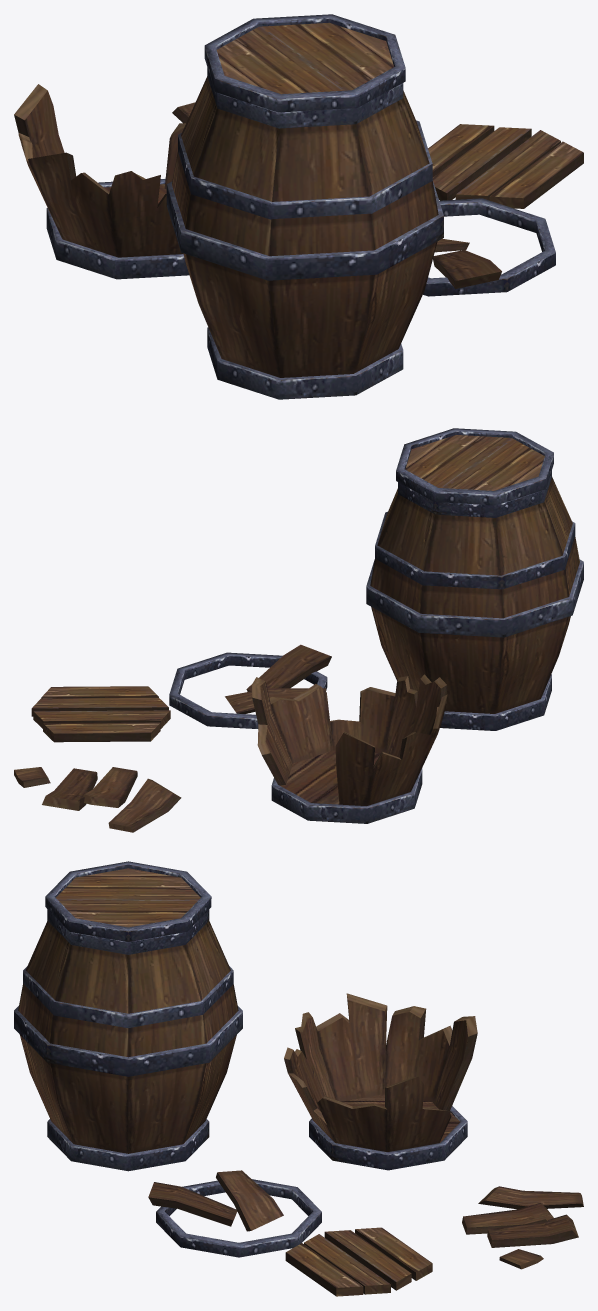
Rendered from q01c_thing_01.FBX.
3 views of the same model, one above another, from view 1: azimuth 30°, elevation 25°; view 2: azimuth 150°, elevation 25°; view 3: azimuth 270°, elevation 25° (orthographic). The views are drawn at different scales.
Visible parts, largest first — view 1: q01c_thing_01; view 2: q01c_thing_01; view 3: q01c_thing_01.
Part boxes in pixels (<box>): q01c_thing_01: <box>14,14,583,399</box>; q01c_thing_01: <box>14,428,583,832</box>; q01c_thing_01: <box>14,861,583,1296</box>.
Size of the model in its own units: 177 by 97.39 by 205.
